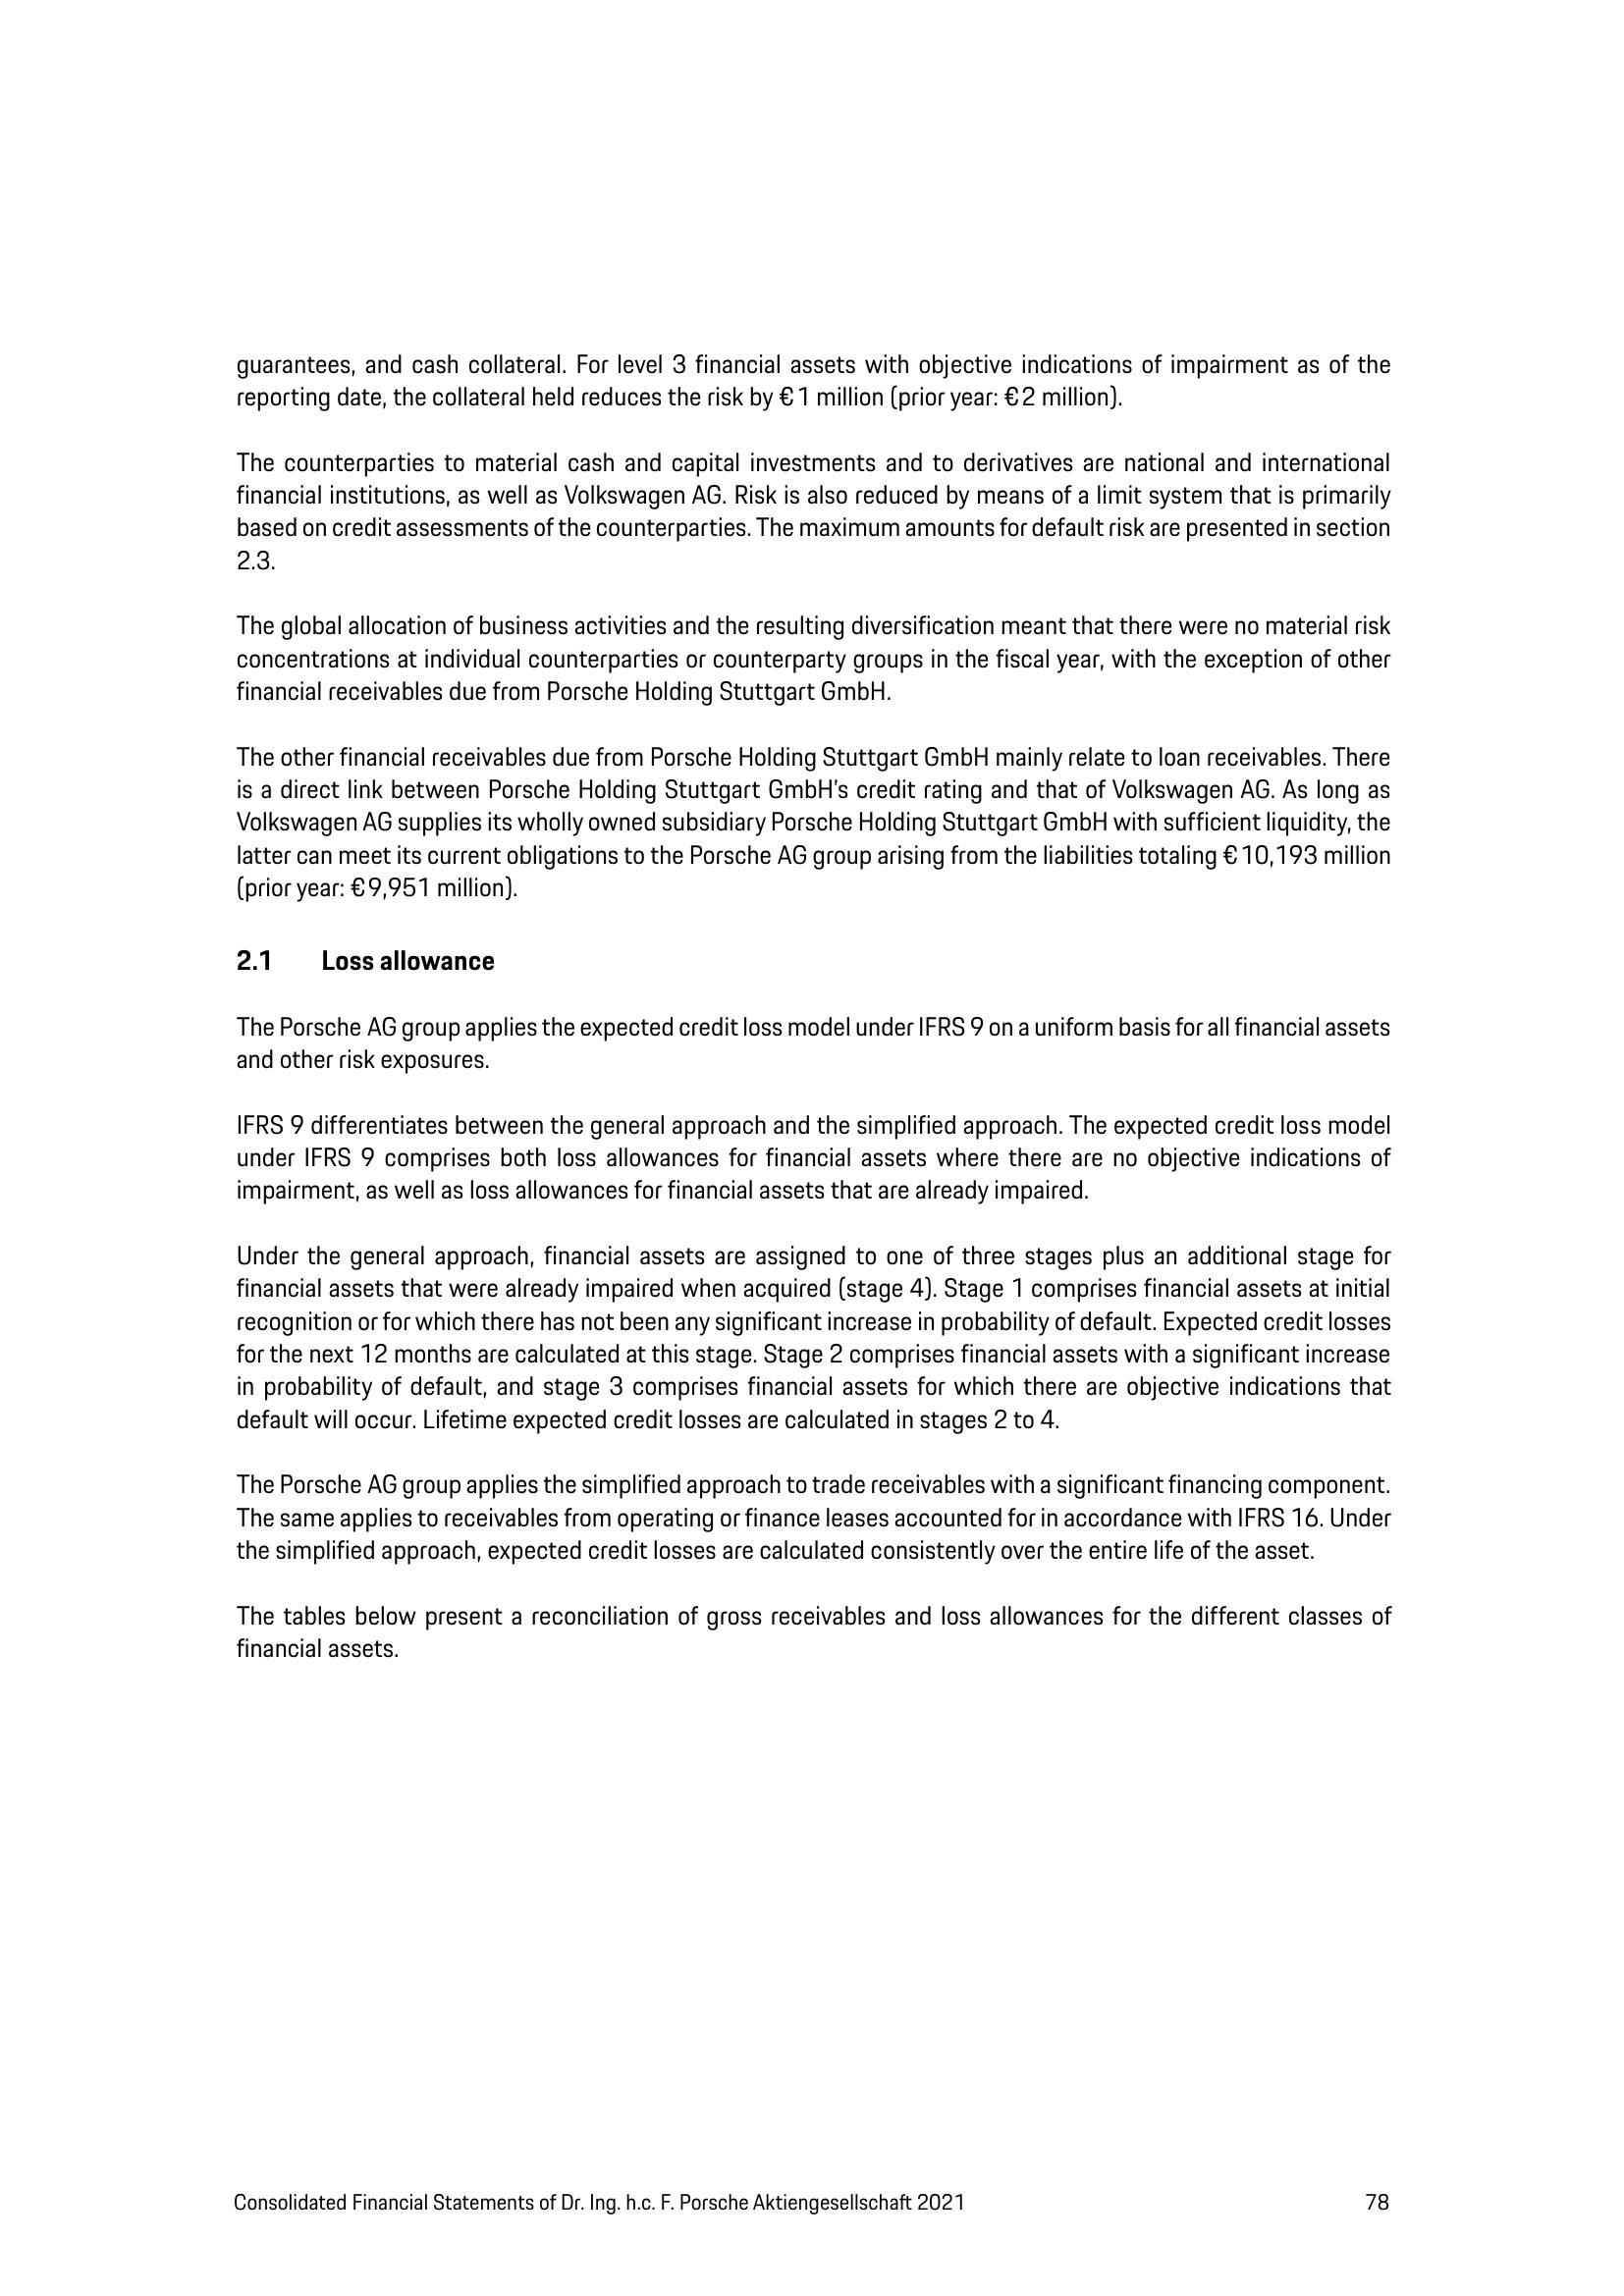Footer: (2, 2143, 1624, 2296)
Header: (0, 0, 1624, 220)
